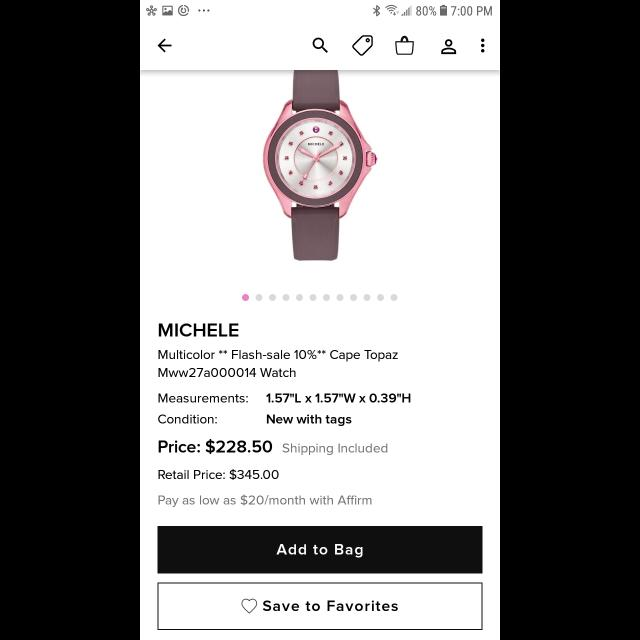icon: (394, 36, 414, 56), (352, 36, 372, 56), (312, 38, 328, 54), (442, 39, 456, 55), (158, 40, 172, 52), (481, 39, 485, 53)
image: (264, 71, 378, 261)
pageindicator: (242, 294, 398, 302)
text: (158, 350, 398, 378), (158, 495, 372, 507), (159, 440, 273, 454), (266, 392, 410, 403), (282, 443, 388, 455), (159, 470, 279, 480), (266, 414, 352, 426), (159, 324, 239, 336), (159, 393, 249, 402), (158, 414, 218, 426)
textbutton: (158, 582, 482, 630), (158, 526, 482, 574)
uppertaskbar: (140, 1, 500, 17)
